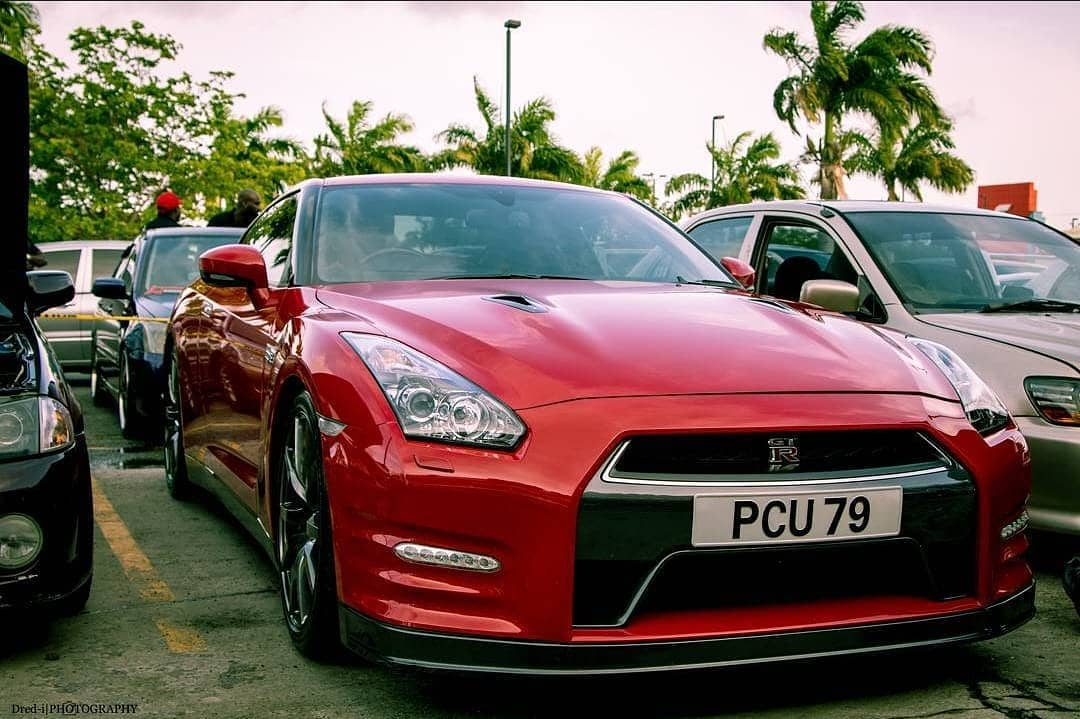License-Plate: (693, 497, 897, 543)
